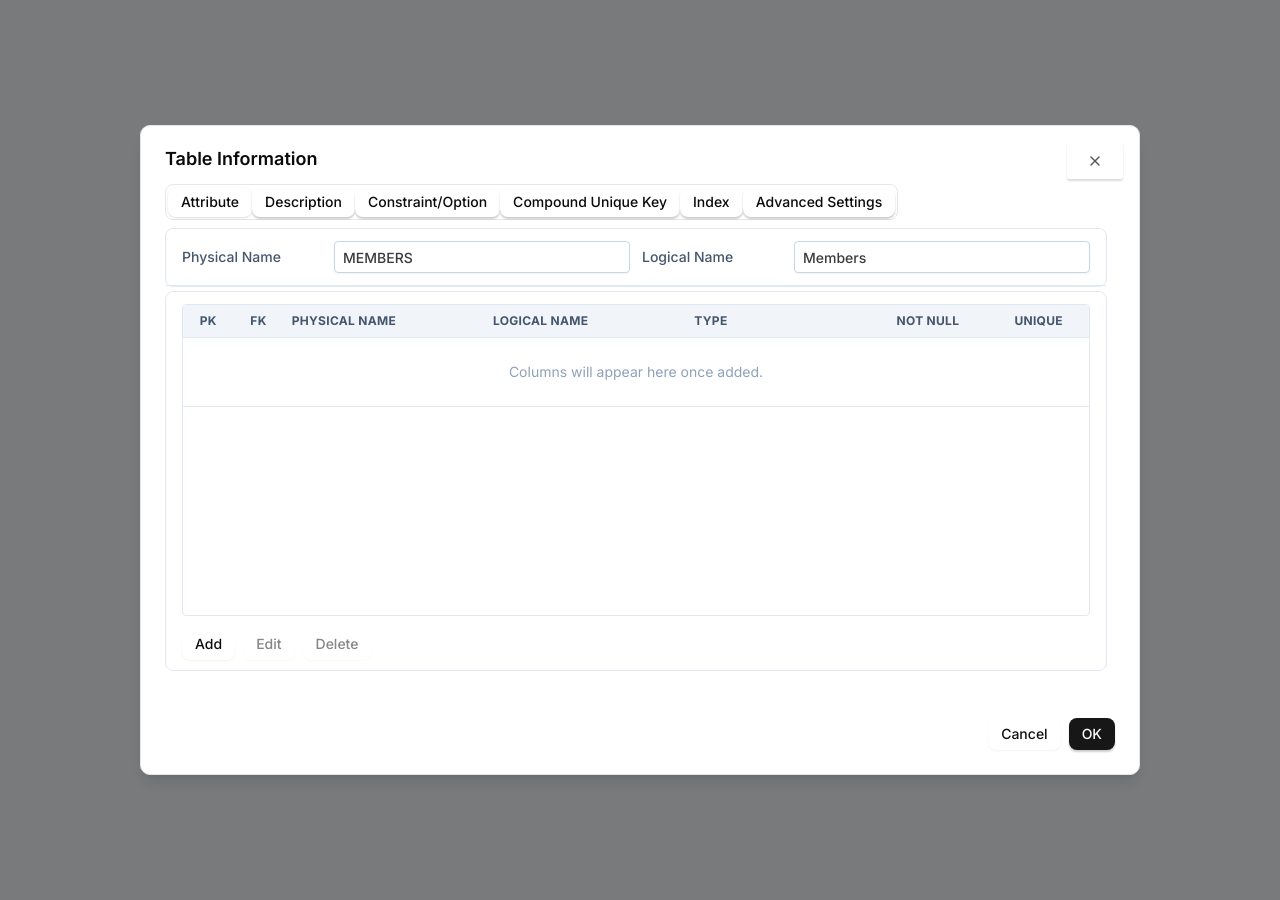
Test: when editing is allowed › allows editing the primary key name
Click the tab "Constraint/Option" at [428, 202], box [355,188,500,216]
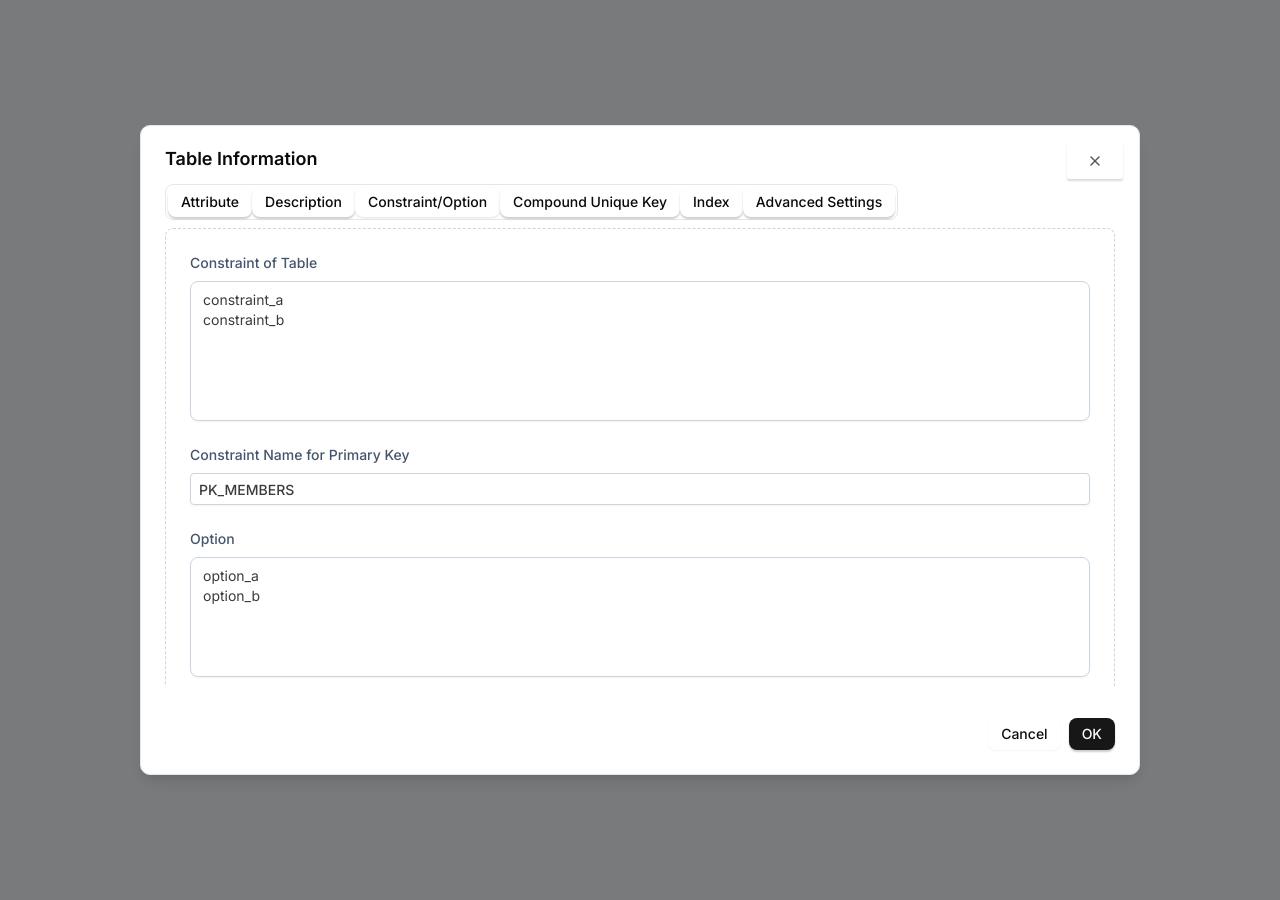
Type "_NEW" into the field labelled "Constraint Name for Primary Key" at [640, 489], box [190,473,1090,505]
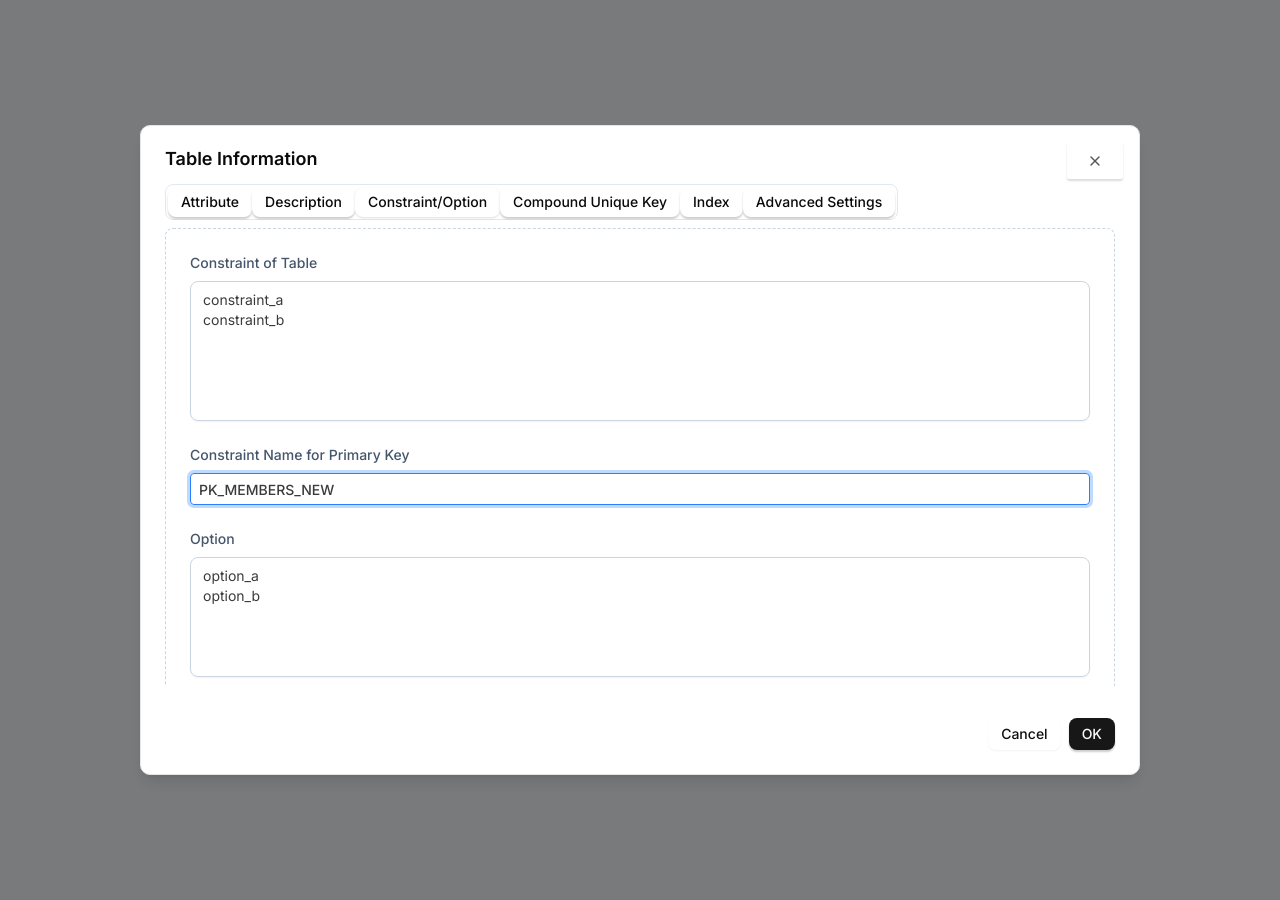
Check: the field labelled "Constraint Name for Primary Key" holds "PK_MEMBERS_NEW", box [190,473,1090,505]
